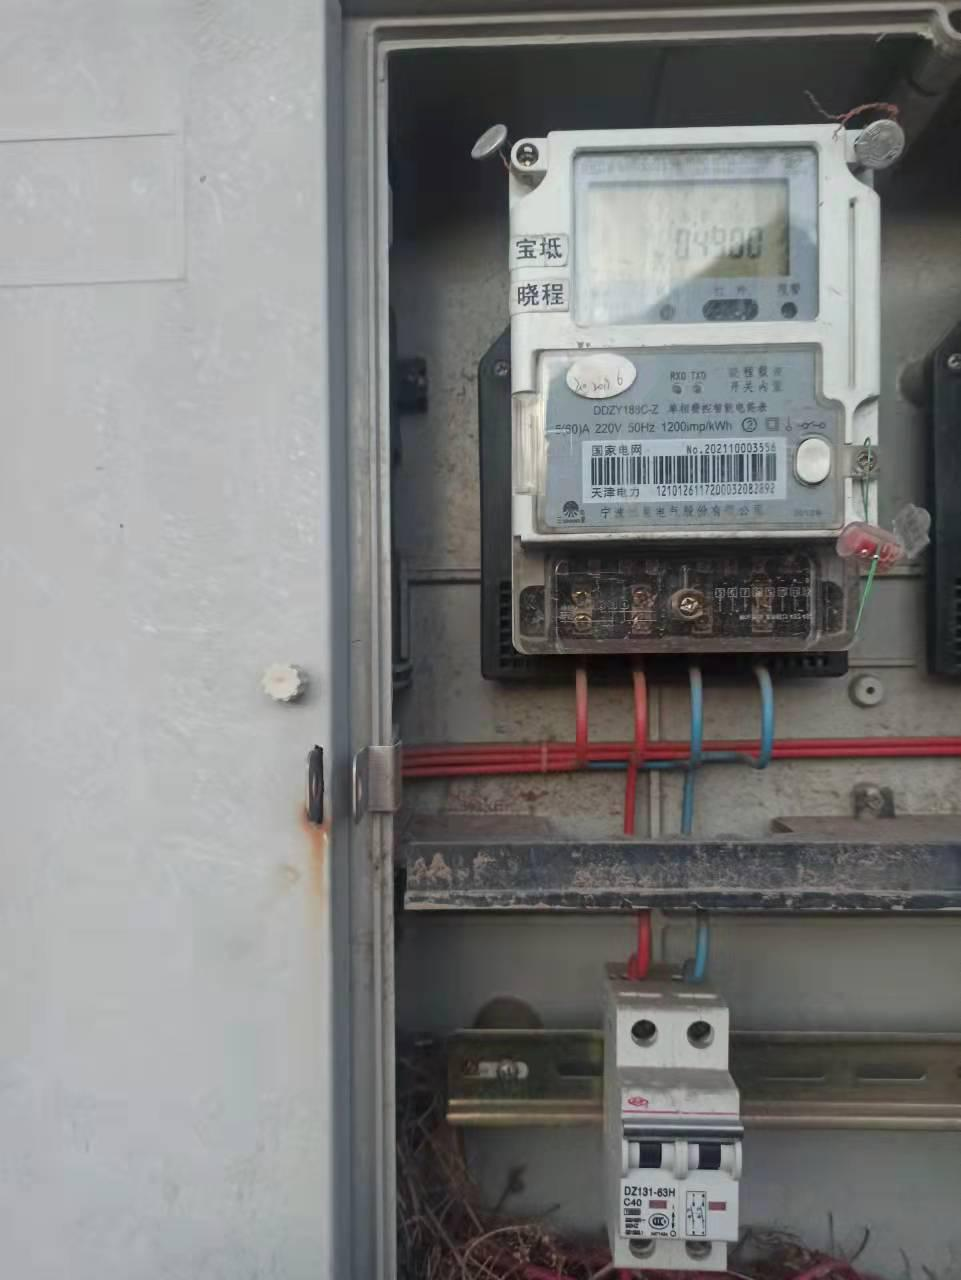digital: (504, 128, 876, 531)
